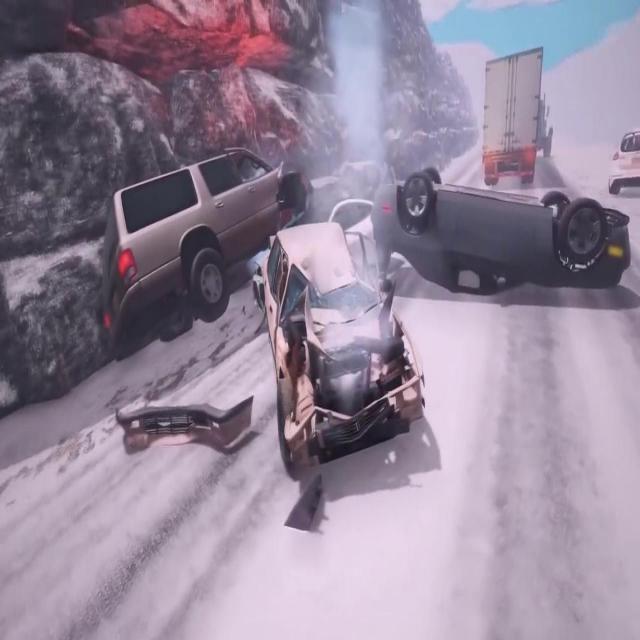severe: (94, 132, 403, 370), (250, 214, 430, 484), (368, 163, 636, 310)
